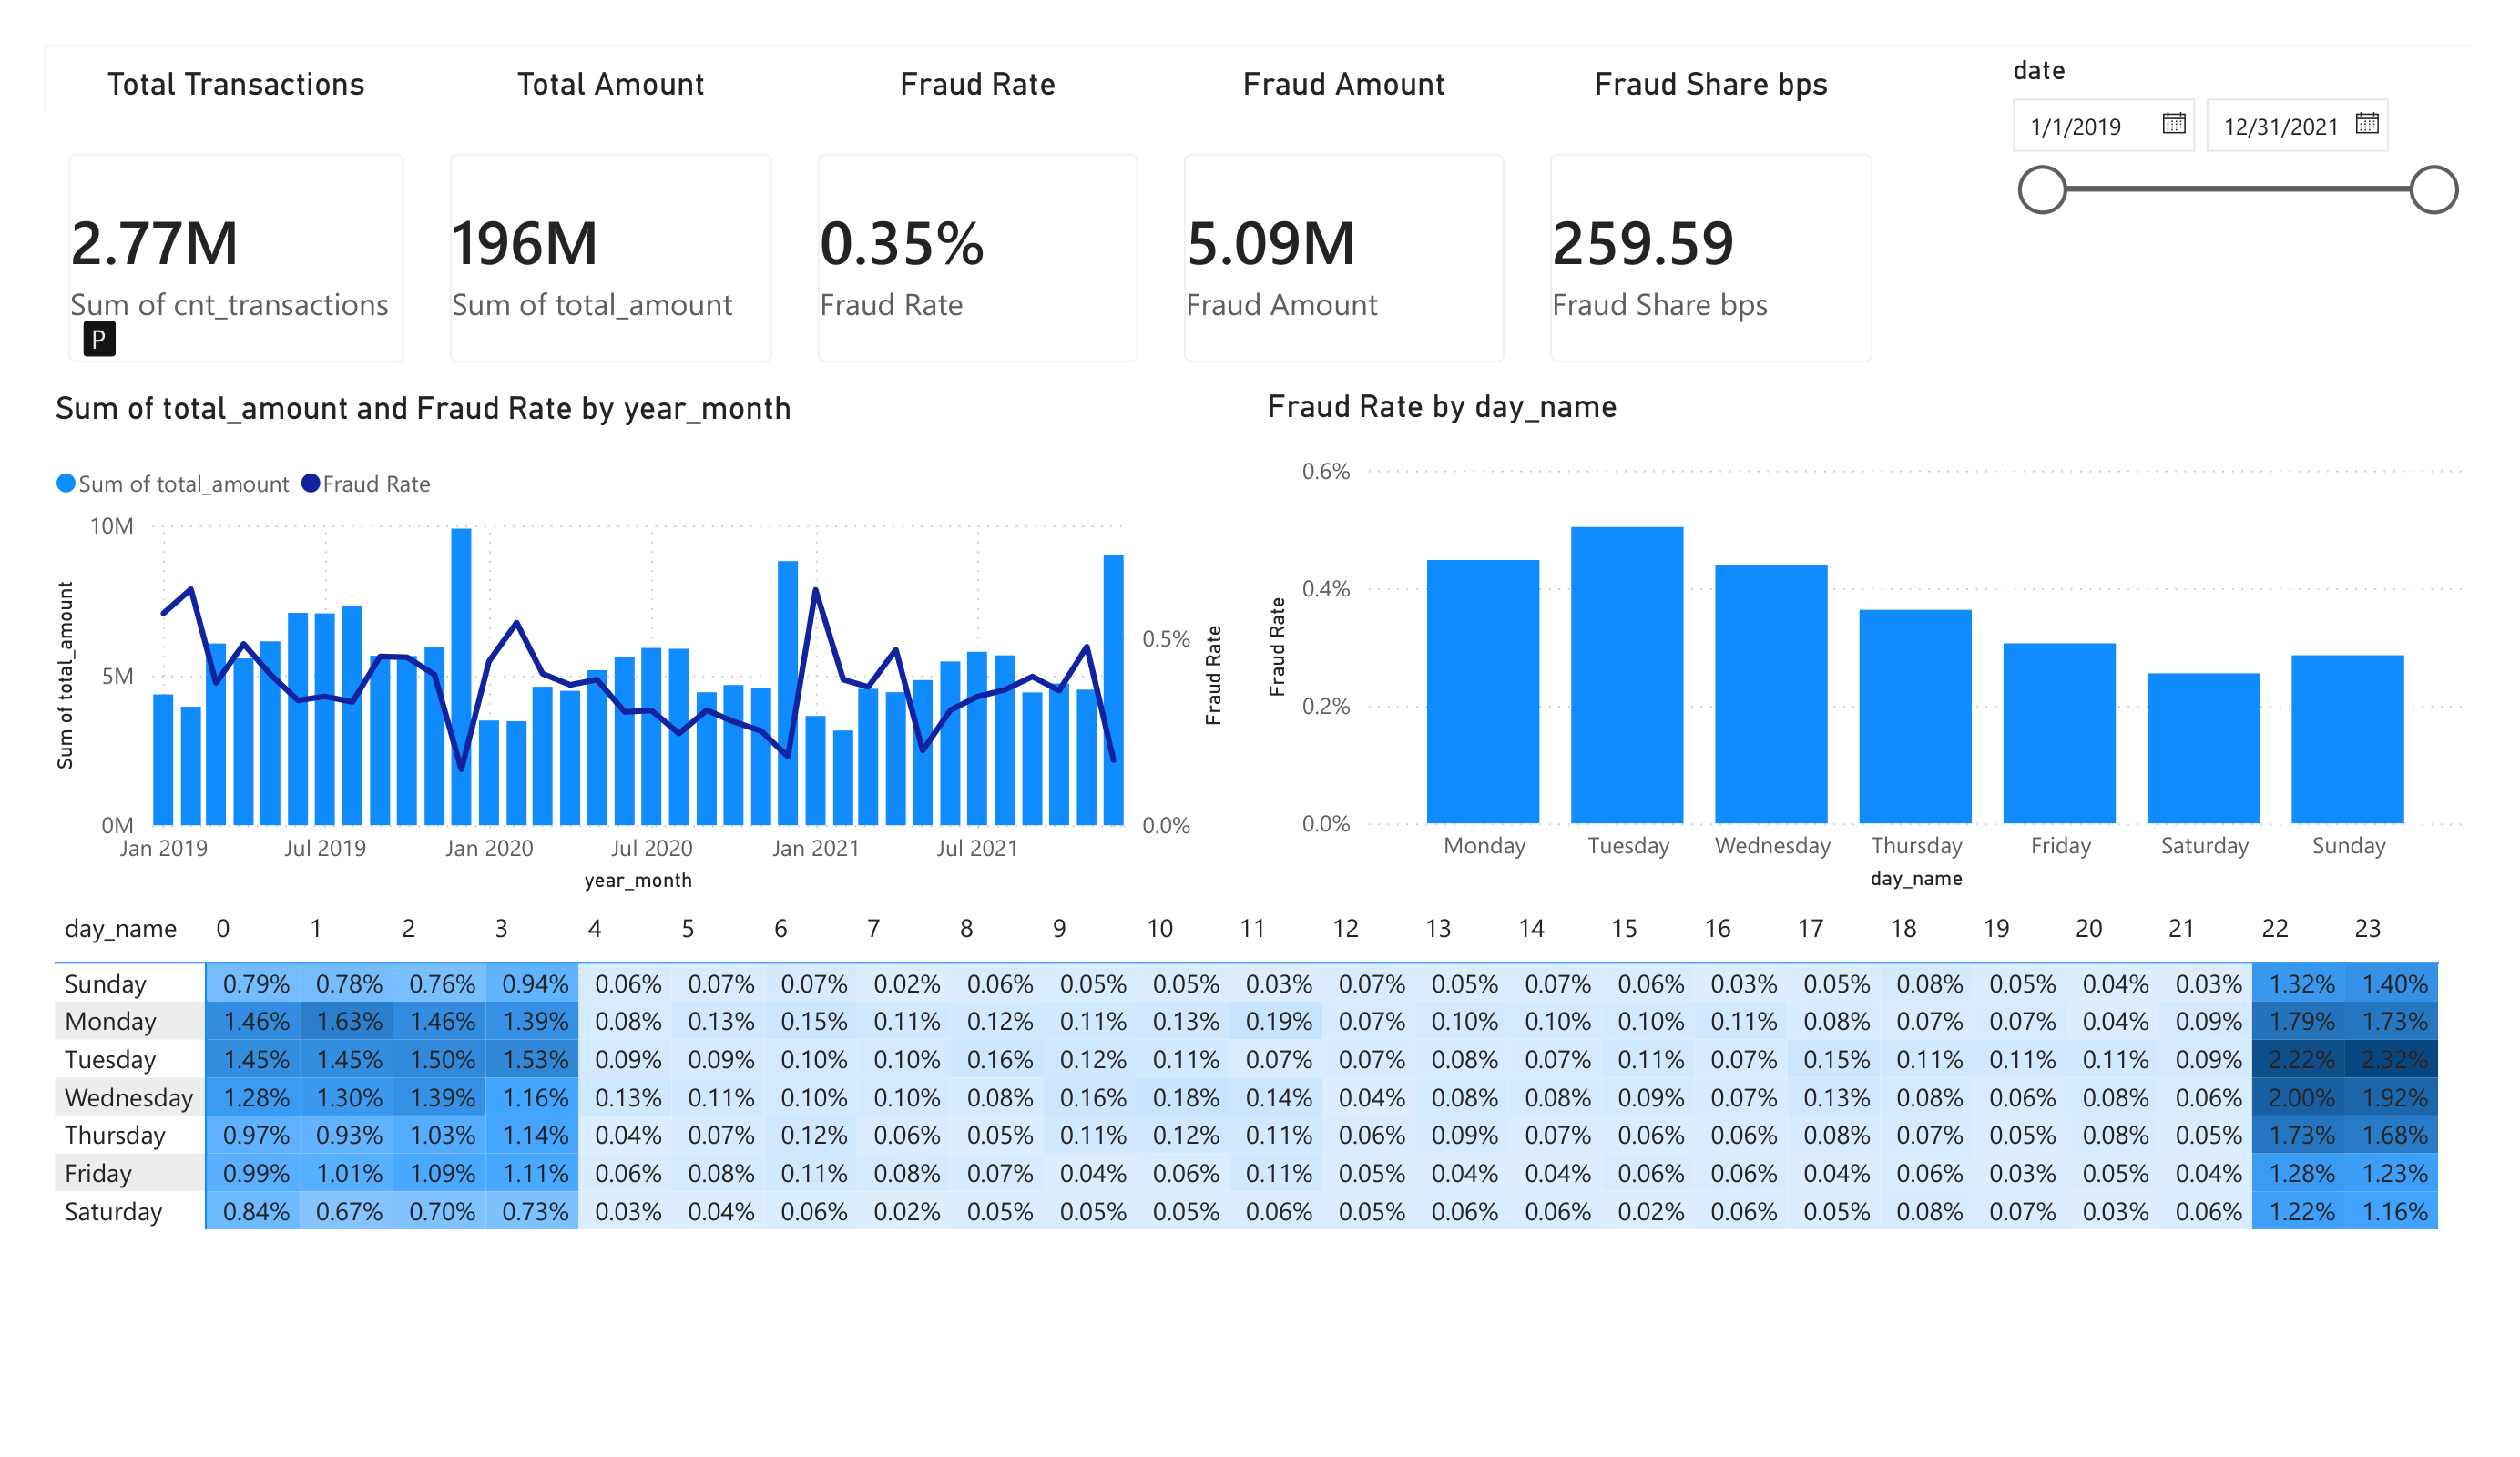

Layout of this report page (visuals, bound fields, positions):
{"tool":"powerbi","page":{"name":"Overview","canvas":[1280,720],"ordinal":0},"visuals":[{"type":"cardVisual","title":"Total Transactions","fields":{"Data":["Sum(public_marts mart_daily_kpi.cnt_transactions)"]},"box":[0,10.1,201,169.6],"z":0},{"type":"cardVisual","title":"Total Amount","fields":{"Data":["Sum(public_marts mart_daily_kpi.total_amount)"]},"box":[201,10.1,193.5,169.6],"z":1000},{"type":"cardVisual","title":"Fraud Rate","fields":{"Data":["public_marts mart_daily_kpi.Fraud Rate"]},"box":[394.5,10.1,193.5,169.6],"z":2000},{"type":"cardVisual","title":"Fraud Amount","fields":{"Data":["public_marts mart_daily_kpi.Fraud Amount"]},"box":[588,10.1,193.5,169.6],"z":3000},{"type":"cardVisual","title":"Fraud Share bps","fields":{"Data":["public_marts mart_daily_kpi.Fraud Share bps"]},"box":[781.5,10.1,193.5,169.6],"z":4000},{"type":"lineStackedColumnComboChart","fields":{"Y":["Sum(public_marts mart_daily_kpi.total_amount)"],"Y2":["public_marts mart_daily_kpi.Fraud Rate"],"Category":["public_core dim_date.year_month"]},"box":[0,180.9,626.9,270.1],"z":5000},{"type":"clusteredColumnChart","fields":{"Y":["public_marts mart_daily_kpi.Fraud Rate"],"Category":["public_core dim_date.day_name"]},"box":[639.5,179.7,640.8,270.1],"z":6000},{"type":"slicer","fields":{"Values":["public_core dim_date.date"]},"box":[1024,0,256.3,169.6],"z":7000},{"type":"pivotTable","fields":{"Columns":["public_marts mart_hourly_kpi.hour"],"Values":["public_marts mart_hourly_kpi.Hourly Fraud Rate"],"Rows":["public_marts mart_hourly_kpi.day_name"]},"box":[0,449.8,1280.3,270.1],"z":8000}]}

Visuals, with their boxes on the page's 1280x720 design canvas (x1, y1, x2, y2). These are canvas units, not pixel positions in the 2520x1457 screenshot, which may show the page scaled, cropped or inside an application window:
"Total Transactions" cardVisual: select_region(0, 10, 201, 180)
"Total Amount" cardVisual: select_region(201, 10, 394, 180)
"Fraud Rate" cardVisual: select_region(394, 10, 588, 180)
"Fraud Amount" cardVisual: select_region(588, 10, 782, 180)
"Fraud Share bps" cardVisual: select_region(782, 10, 975, 180)
lineStackedColumnComboChart - Sum(public_marts mart_daily_kpi.total_amount) x public_marts mart_daily_kpi.Fraud Rate: select_region(0, 181, 627, 451)
clusteredColumnChart - public_marts mart_daily_kpi.Fraud Rate x public_core dim_date.day_name: select_region(640, 180, 1280, 450)
slicer - public_core dim_date.date: select_region(1024, 0, 1280, 170)
pivotTable - public_marts mart_hourly_kpi.hour x public_marts mart_hourly_kpi.Hourly Fraud Rate: select_region(0, 450, 1280, 720)
